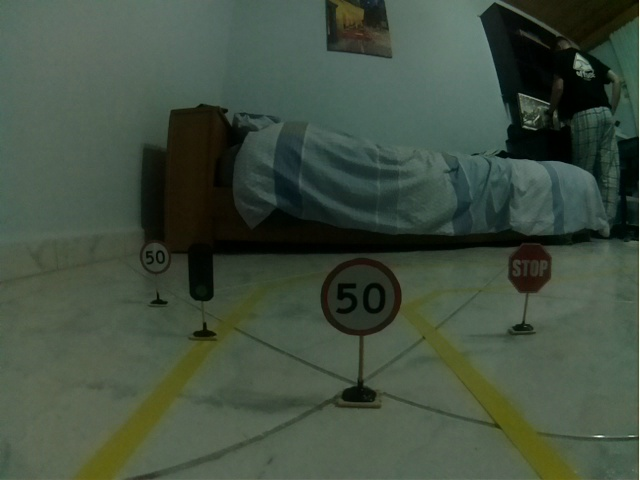Green Traffic Light: (188, 242, 214, 301)
Speed Limit 50: (320, 259, 401, 336), (139, 239, 171, 275)
Stop: (507, 243, 552, 294)
